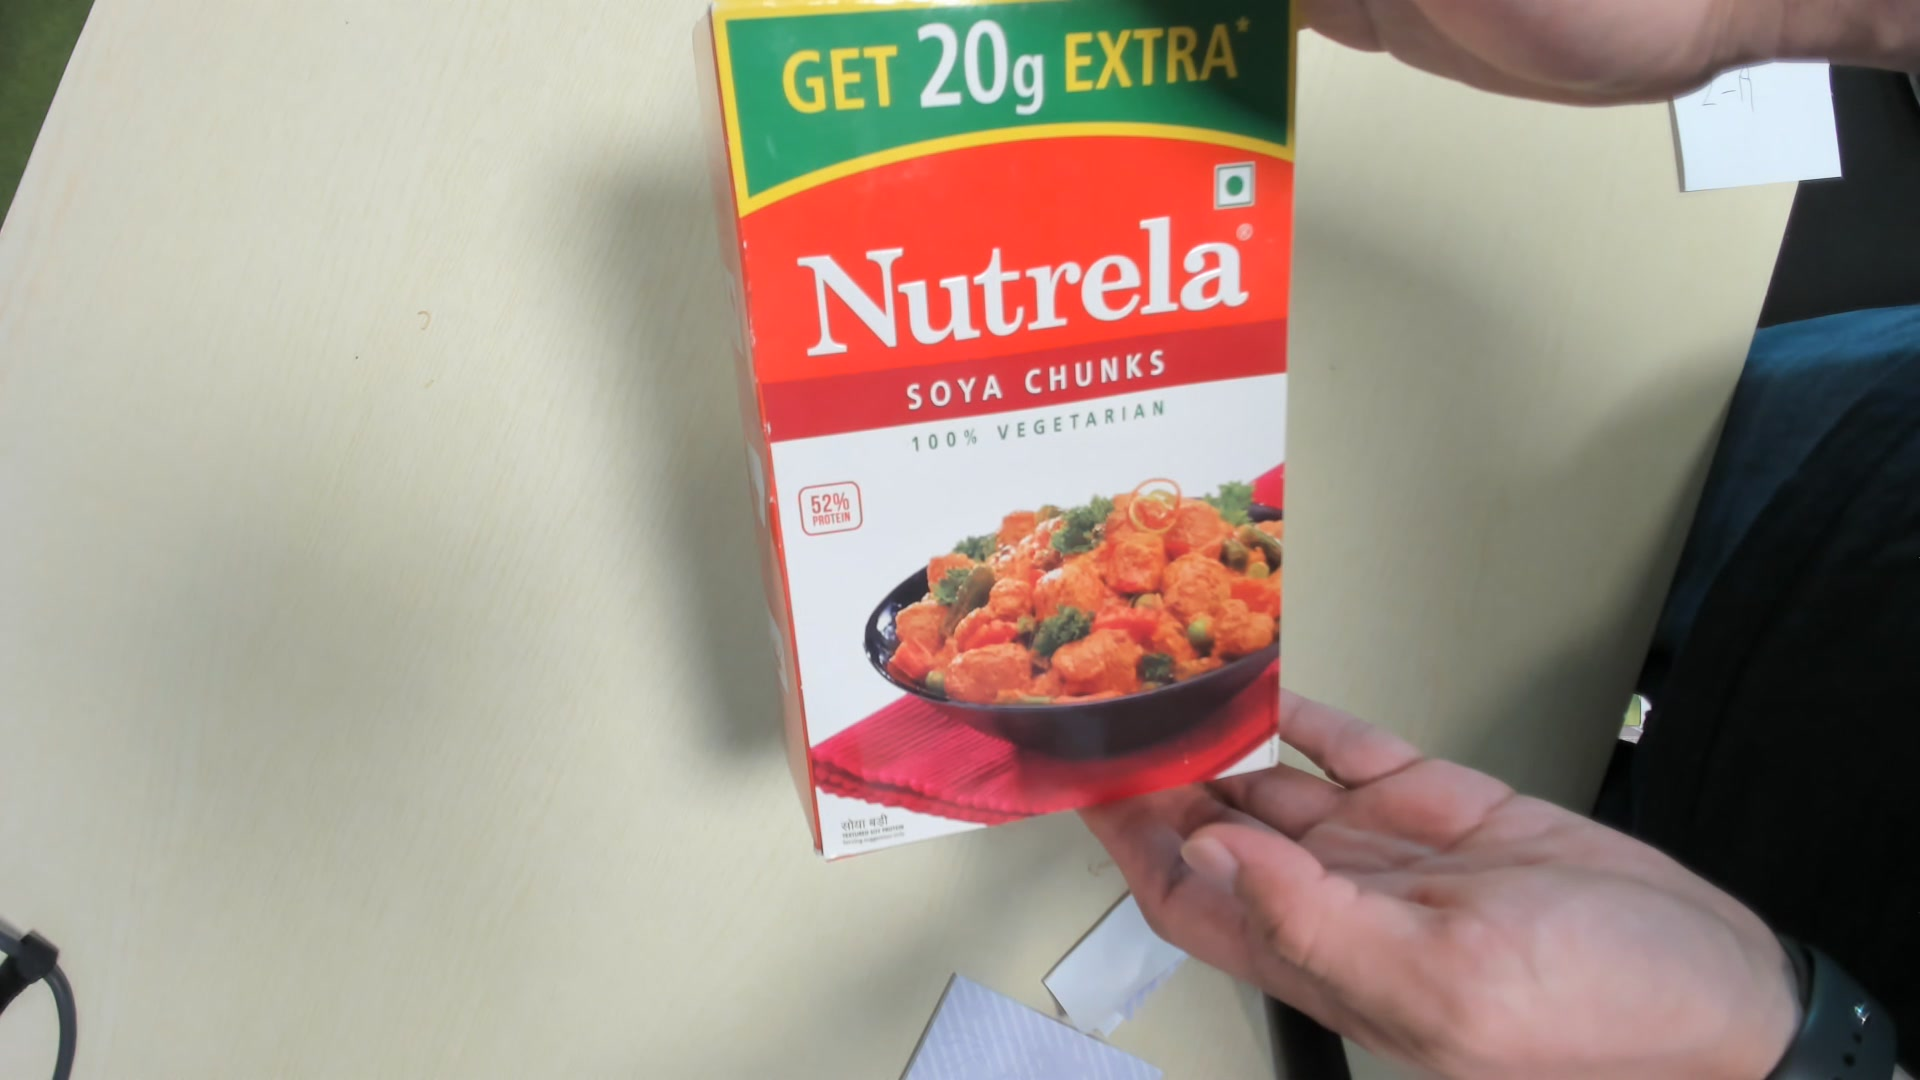InstantMeals_200_299g_NonHalal_NonHealthy: (700, 7, 1303, 858)
